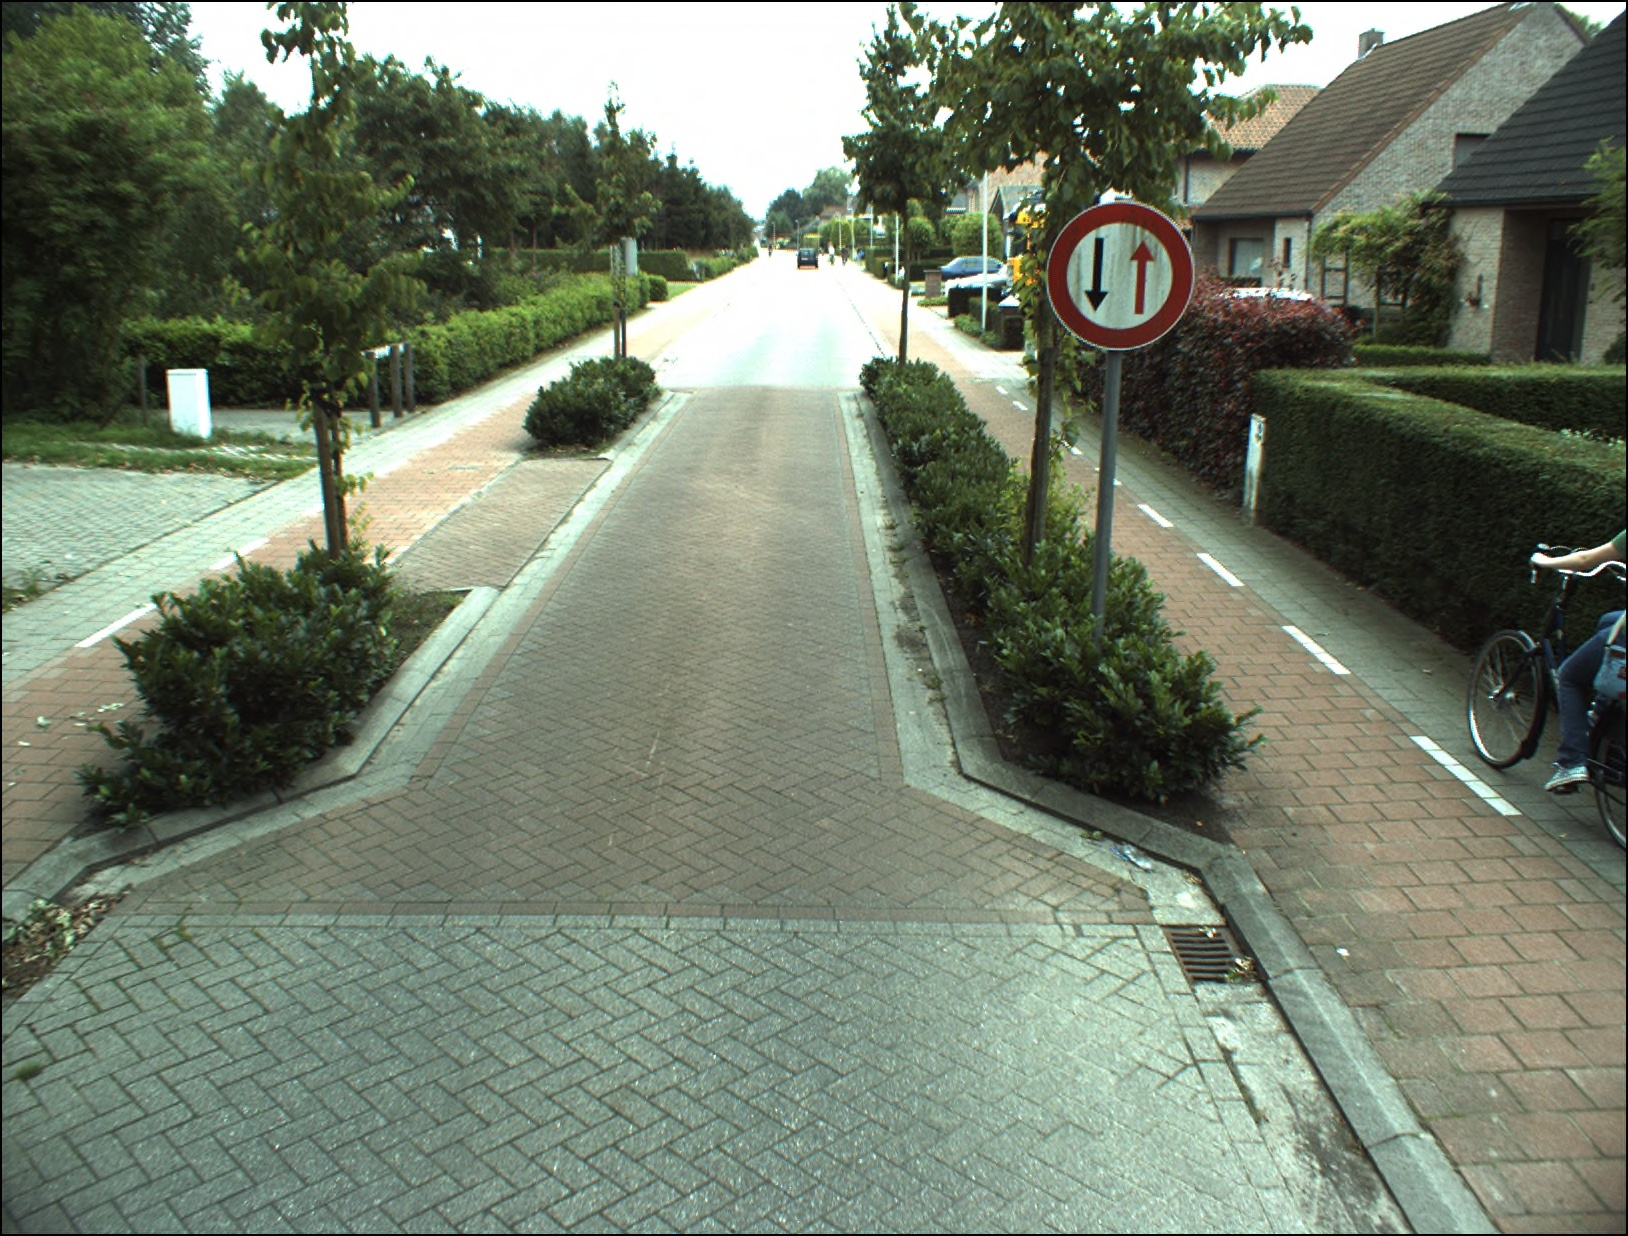roadnarrow2: (1041, 199, 1194, 348)
